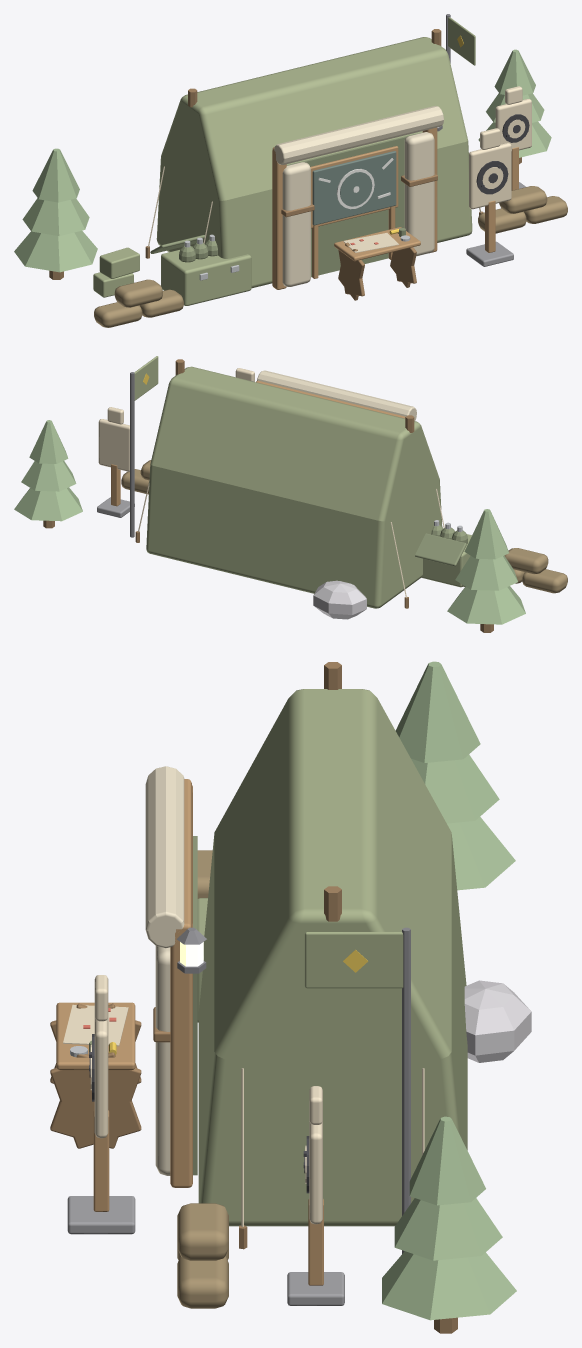
The model's file is training_room.glb.
3 renders of one model, top to bottom at view 1: azimuth 30°, elevation 25°; view 2: azimuth 150°, elevation 25°; view 3: azimuth 270°, elevation 25°, orthographic. The views are drawn at different scales.
Parts seen in each view (by area): view 1: MerchantShop; view 2: MerchantShop; view 3: MerchantShop.
Part boxes in pixels (x1,y1,x2,y2): MerchantShop: [14, 14, 567, 327]; MerchantShop: [14, 356, 567, 632]; MerchantShop: [50, 661, 531, 1333].
Bounding box in the file's own units: 10.22 × 3.5 × 4.26.
